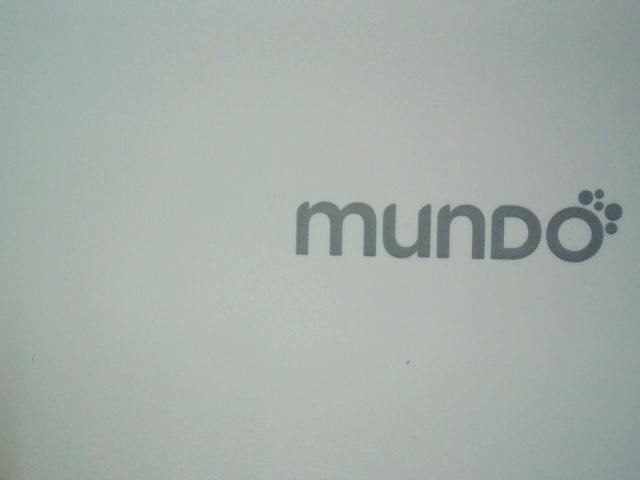BI_MUNDO: (281, 177, 625, 278)
